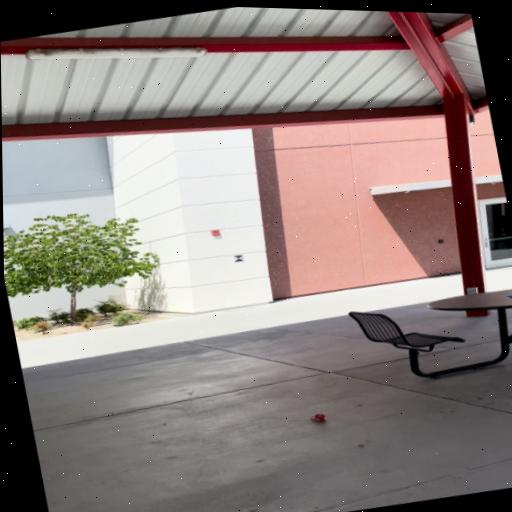target2: (233, 253, 245, 263)
